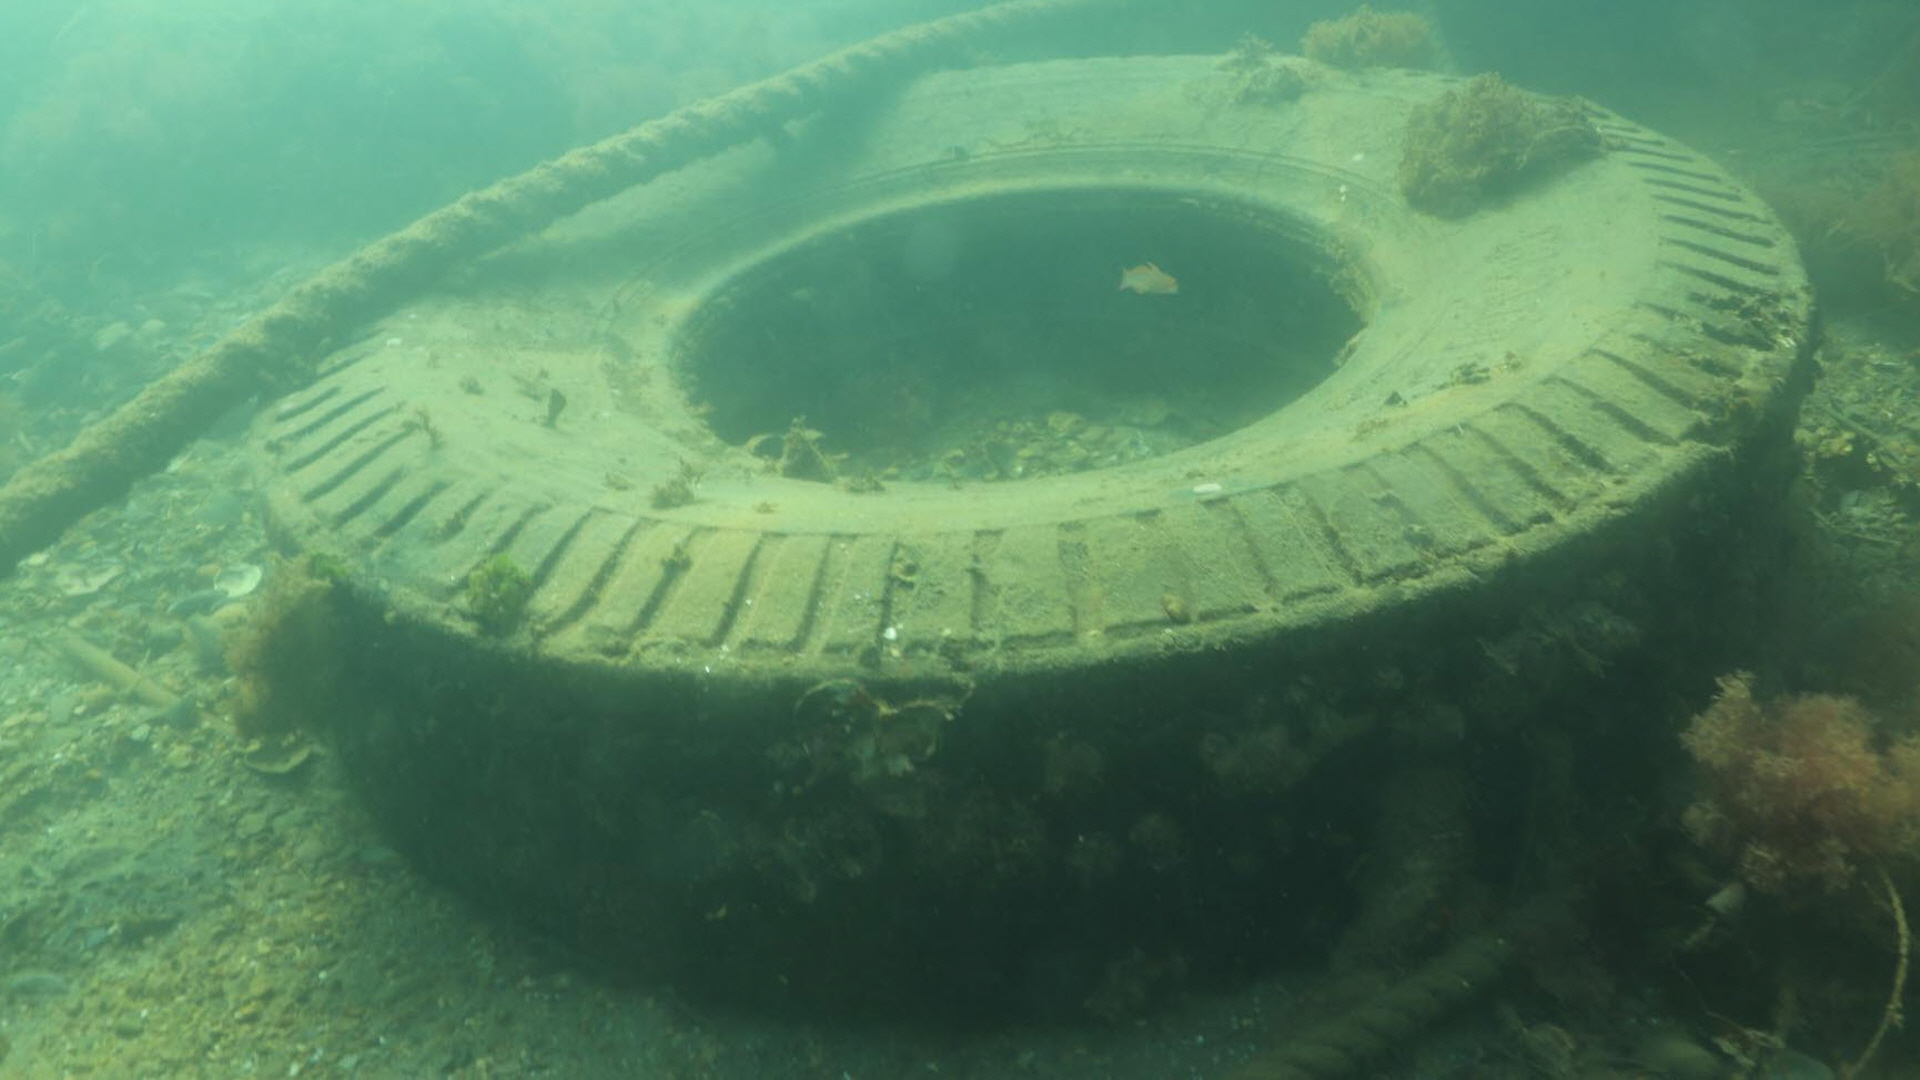rope: (0, 0, 1054, 564)
tire: (248, 51, 1822, 1023)
